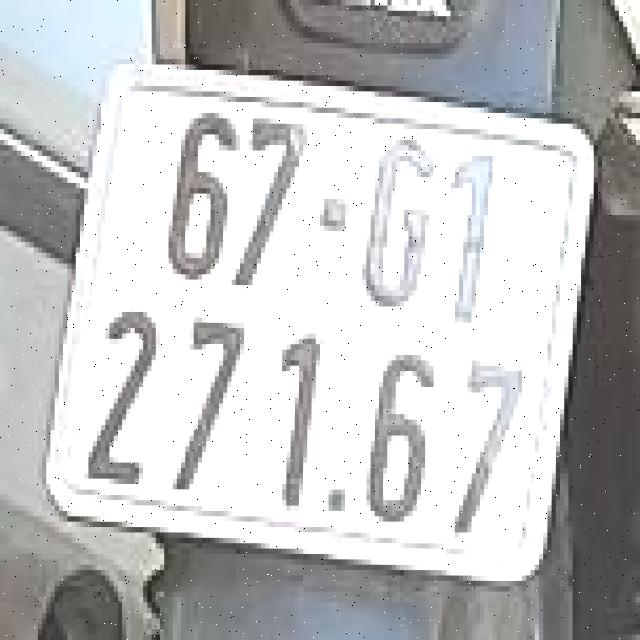1: (448, 140, 508, 328), (270, 323, 328, 516)
2: (82, 304, 162, 487)
6: (364, 344, 440, 527), (162, 105, 238, 277)
7: (172, 301, 252, 500), (454, 352, 530, 540), (238, 110, 314, 288)
G: (364, 124, 436, 312)
